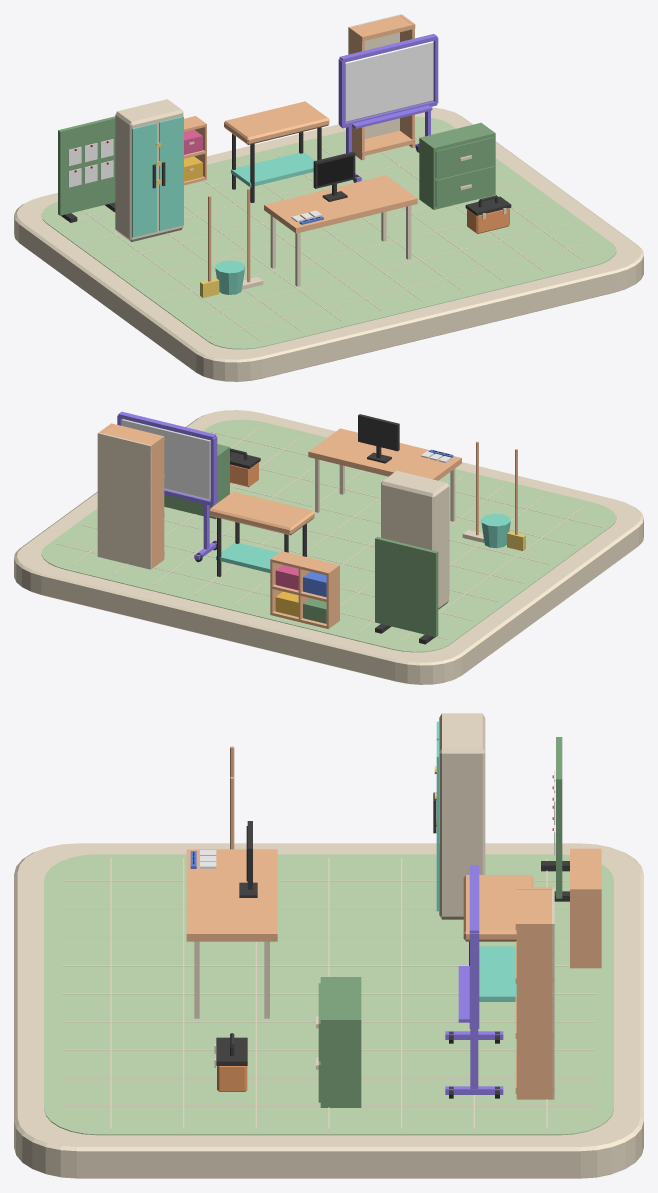
The model's file is room.fbx.
3 views of the same model, one above another, from view 1: azimuth 30°, elevation 25°; view 2: azimuth 150°, elevation 25°; view 3: azimuth 270°, elevation 25° (orthographic). The views are drawn at different scales.
Visible parts, largest first — view 1: COM-02 Floor Surface, COM-01 Rounded Base Direct, Cabinet, Top, Writing surface, Panel, Equipment case, Door, Worktop, Door.001, Lower shelf, Frame (+12 smaller); view 2: COM-02 Floor Surface, COM-01 Rounded Base Direct, Back, Panel, Equipment case, Top, Writing surface, Worktop, Side, Frame, Cabinet, Lower shelf (+11 smaller); view 3: COM-02 Floor Surface, COM-01 Rounded Base Direct, Top, Equipment case, Side.001, Cabinet, Worktop, Cubbies divider.002, Lower shelf, Shelf.003, Cubbies shelf.002, Panel (+10 smaller).
Part boxes in pixels (x1,y1,x2,y2): COM-02 Floor Surface: [41, 116, 616, 349]; COM-01 Rounded Base Direct: [14, 107, 643, 381]; Cabinet: [419, 122, 495, 209]; Top: [264, 175, 417, 286]; Writing surface: [345, 41, 433, 122]; Panel: [58, 116, 115, 215]; Equipment case: [115, 99, 183, 241]; Door: [132, 123, 156, 237]; Worktop: [224, 101, 329, 144]; Door.001: [159, 116, 183, 230]; Lower shelf: [231, 152, 315, 187]; Frame: [313, 151, 355, 201]; COM-02 Floor Surface: [41, 419, 616, 652]; COM-01 Rounded Base Direct: [14, 410, 643, 684]; Back: [97, 432, 151, 569]; Panel: [375, 537, 438, 637]; Equipment case: [381, 470, 448, 609]; Top: [308, 428, 461, 521]; Writing surface: [122, 419, 210, 500]; Worktop: [209, 491, 314, 535]; Side: [149, 435, 164, 568]; Frame: [358, 414, 399, 463]; Cabinet: [164, 444, 229, 519]; Lower shelf: [216, 542, 278, 572]; COM-02 Floor Surface: [44, 854, 613, 1135]; COM-01 Rounded Base Direct: [14, 843, 643, 1178]; Top: [186, 849, 277, 1018]; Equipment case: [439, 713, 485, 919]; Side.001: [516, 922, 553, 1099]; Cabinet: [316, 977, 361, 1107]; Worktop: [463, 875, 533, 941]; Cubbies divider.002: [570, 889, 601, 968]; Lower shelf: [479, 946, 516, 1001]; Shelf.003: [515, 887, 553, 930]; Cubbies shelf.002: [570, 848, 601, 888]; Panel: [556, 737, 562, 898].
Size of the model in its own units: 600 by 190 by 520.
